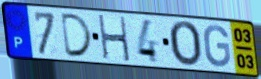4: (134, 18, 162, 65)
7: (33, 11, 57, 56)
D: (59, 12, 95, 58)
G: (202, 24, 232, 69)
H: (97, 14, 133, 64)
O: (167, 19, 203, 69)
